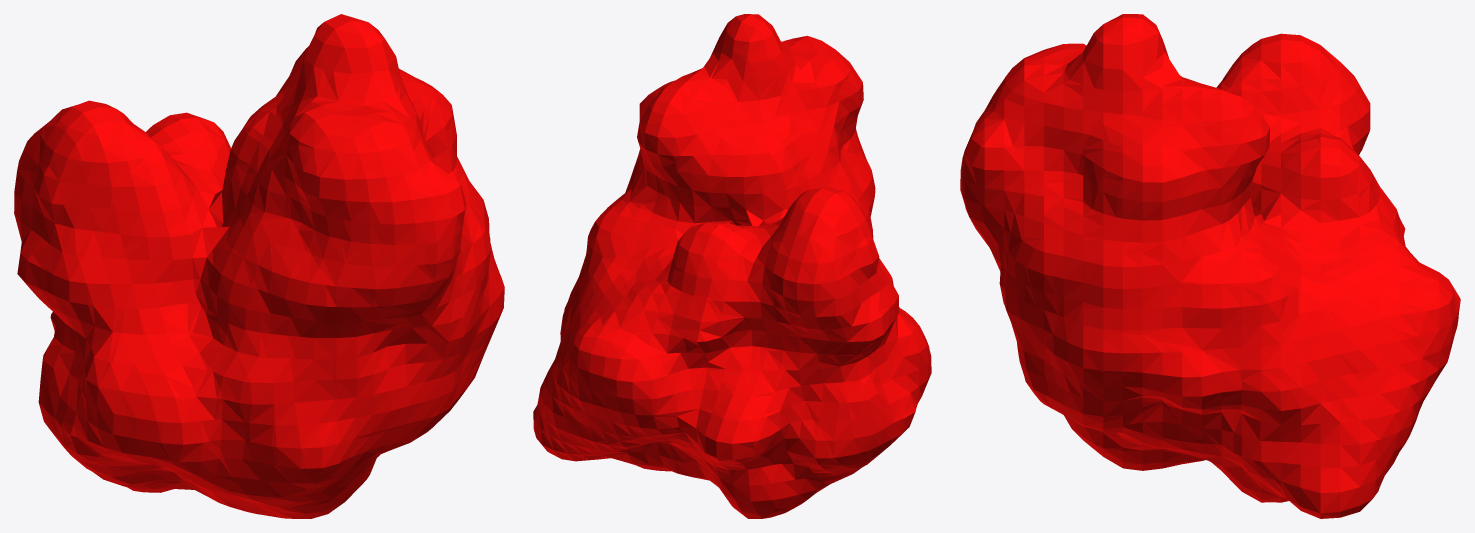
The model's file is treC_coarse.dae.
The picture shows the model from 3 angles, left to right: view 1: azimuth 30°, elevation 25°; view 2: azimuth 150°, elevation 25°; view 3: azimuth 270°, elevation 25°; orthographic projection. The views are drawn at different scales.
Visible parts, largest first — view 1: treC; view 2: treC; view 3: treC.
Part boxes in pixels (<box>): treC: <box>14,14,504,518</box>; treC: <box>533,14,931,518</box>; treC: <box>960,14,1460,518</box>.
Size of the model in its own units: 58.45 by 71.81 by 67.43.
